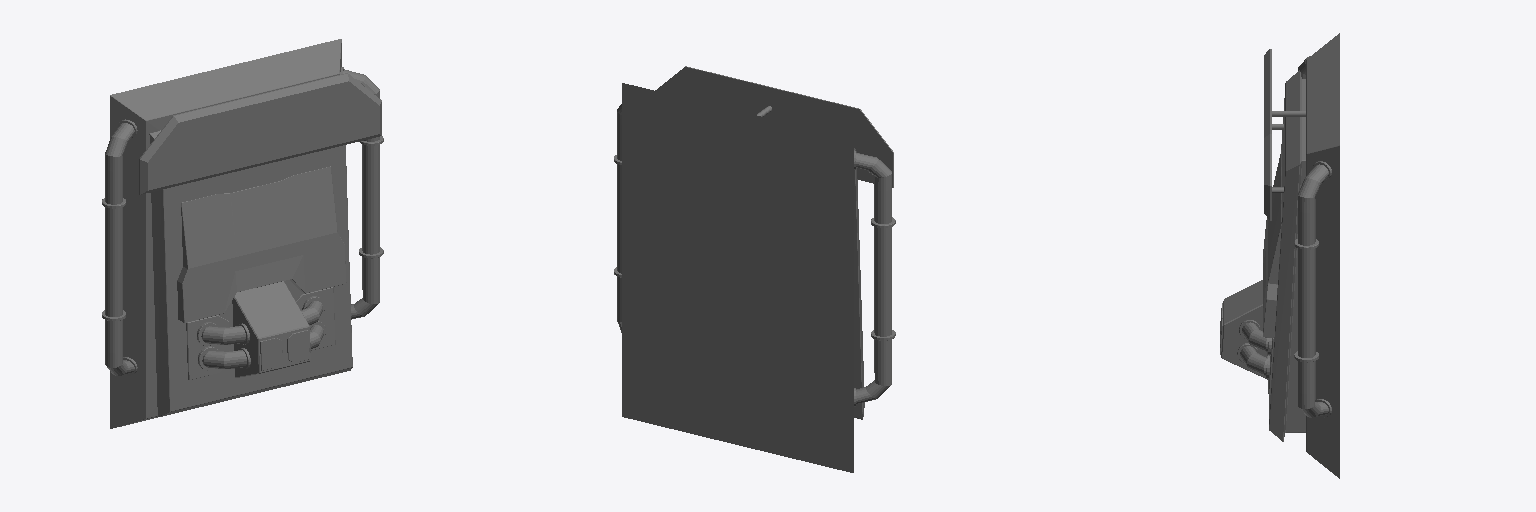
File: OxygenMachine.obj
3 views of the same model, side by side, from view 1: azimuth 30°, elevation 25°; view 2: azimuth 150°, elevation 25°; view 3: azimuth 270°, elevation 25° (orthographic).
Parts seen in each view (by area): view 1: polySurface173; view 2: polySurface173; view 3: polySurface173.
Part boxes in pixels (x1,y1,x2,y2): polySurface173: (102,39,383,428); polySurface173: (614,66,895,472); polySurface173: (1220,33,1339,478).
Bounding box in the file's own units: 3.93 × 4.5 × 1.47.